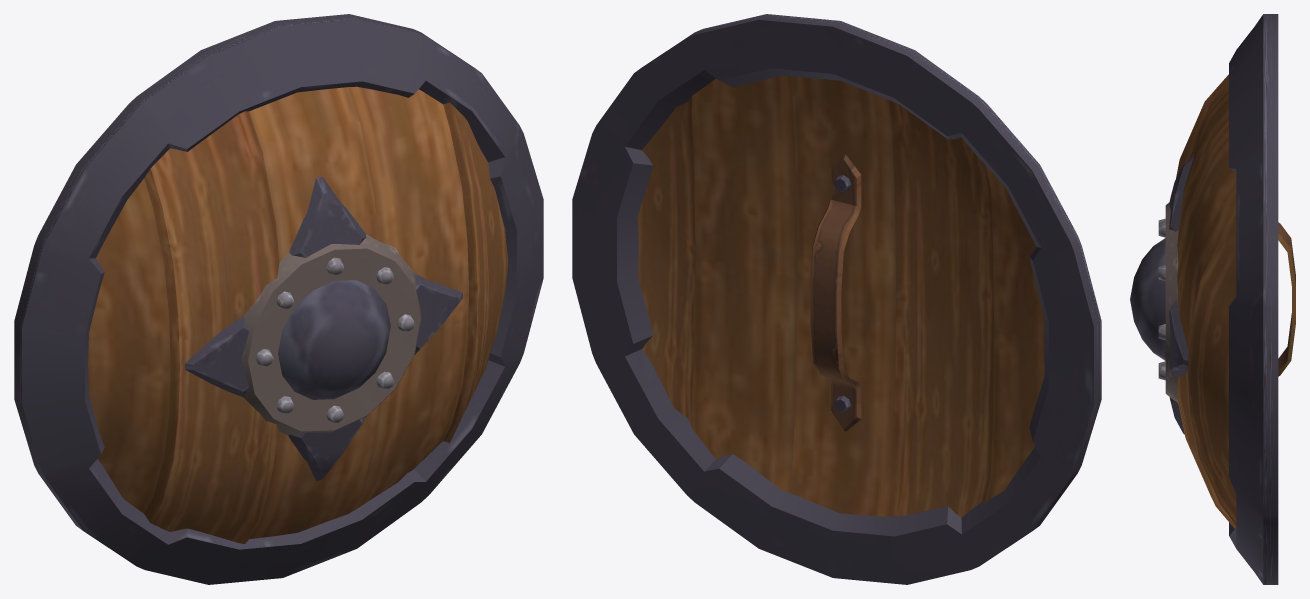
The model's file is shield.glb.
3 renders of one model, left to right at view 1: azimuth 30°, elevation 25°; view 2: azimuth 150°, elevation 25°; view 3: azimuth 270°, elevation 25°, orthographic. The views are drawn at different scales.
Visible parts, largest first — view 1: Shield_Wooden; view 2: Shield_Wooden; view 3: Shield_Wooden.
Part boxes in pixels (x1=…): Shield_Wooden: x1=14, y1=14, x2=543, y2=584; Shield_Wooden: x1=572, y1=14, x2=1101, y2=584; Shield_Wooden: x1=1130, y1=14, x2=1295, y2=584.
Size of the model in its own units: 0.6146 by 0.6209 by 0.1788.
Materials: 3 (3 with a texture image).
